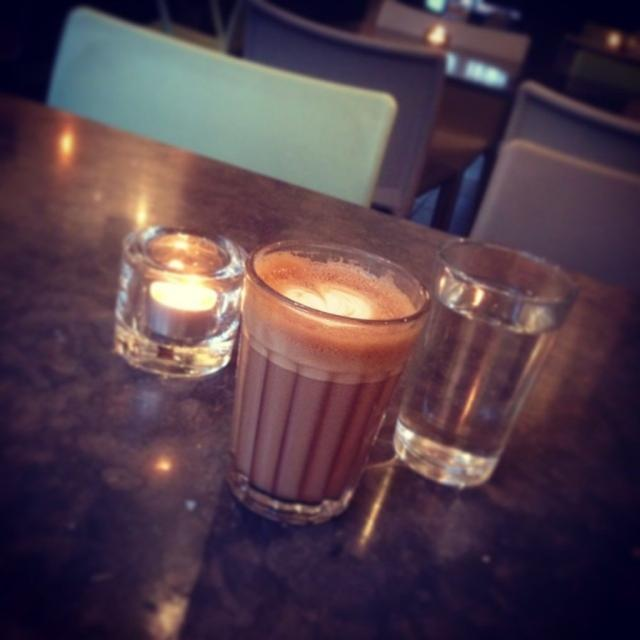Coffee: (224, 245, 419, 515)
